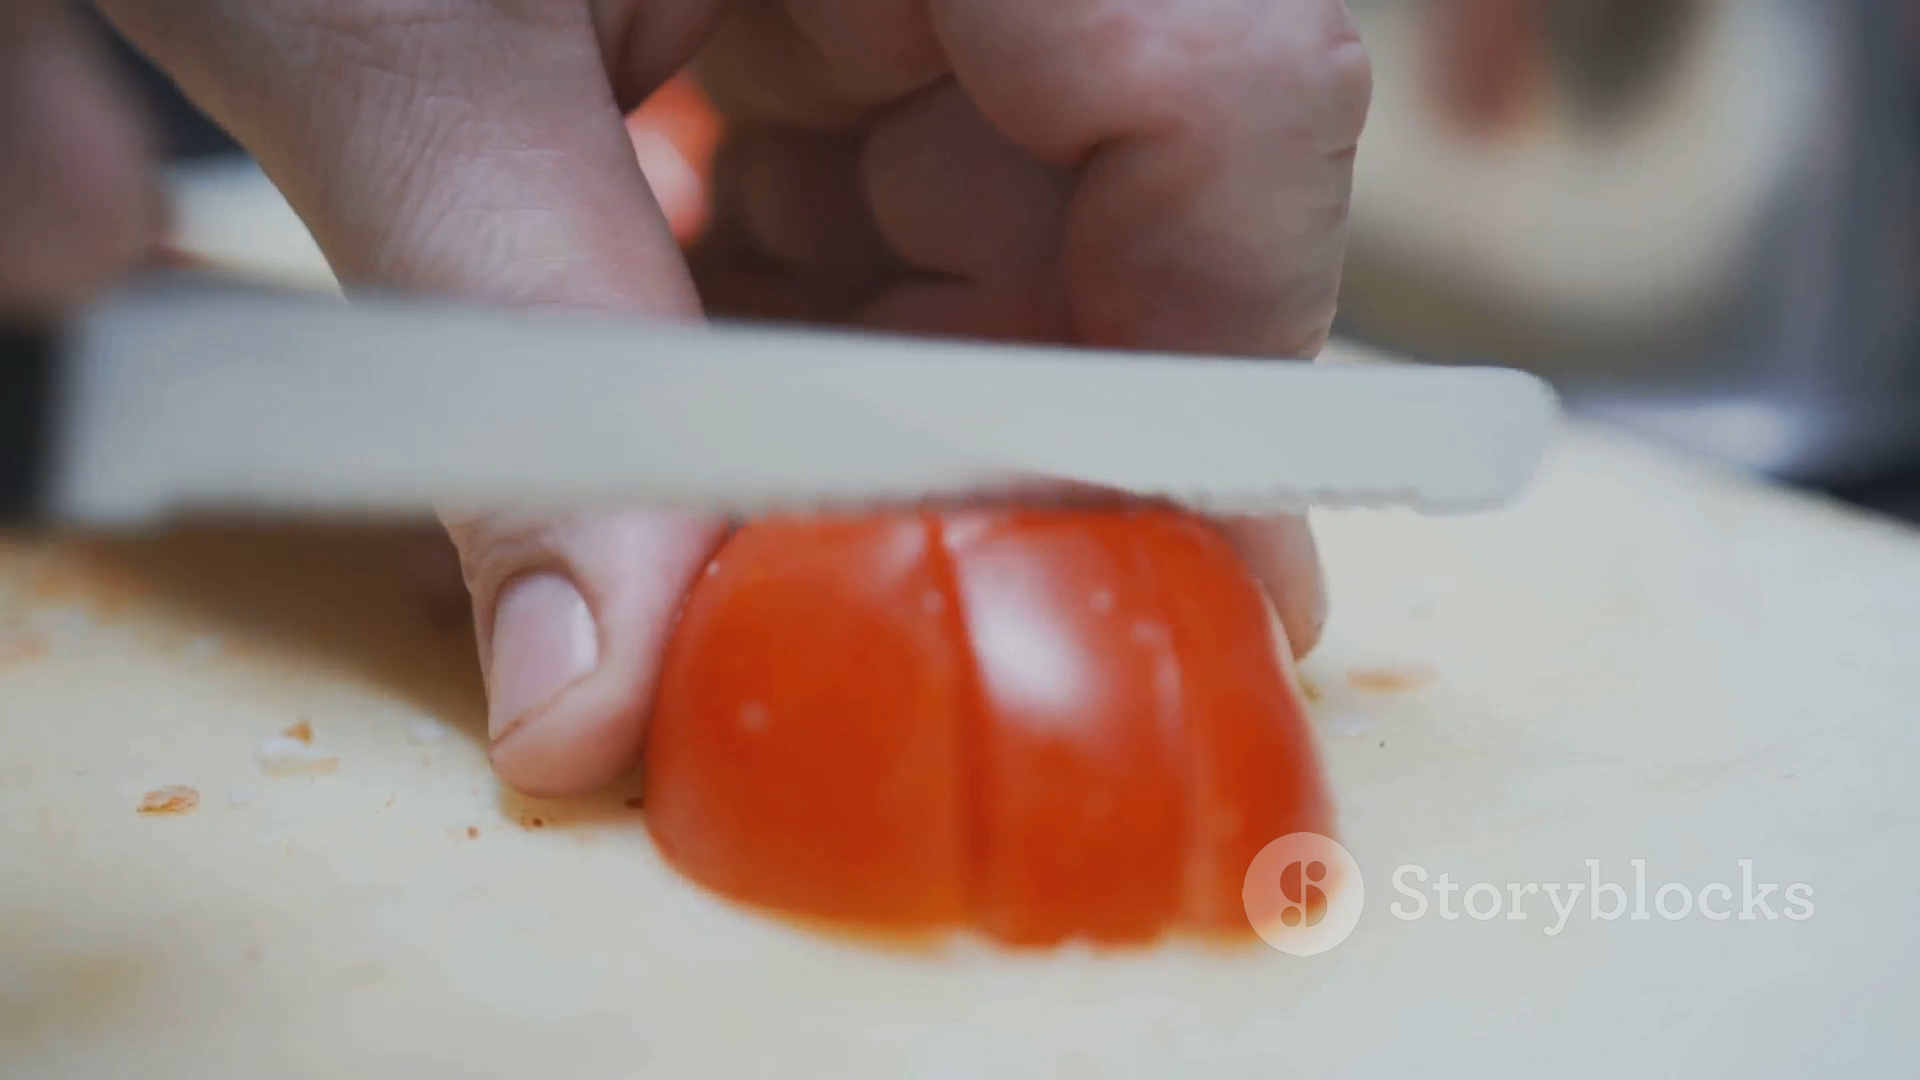cortante: (41, 274, 1559, 537)
